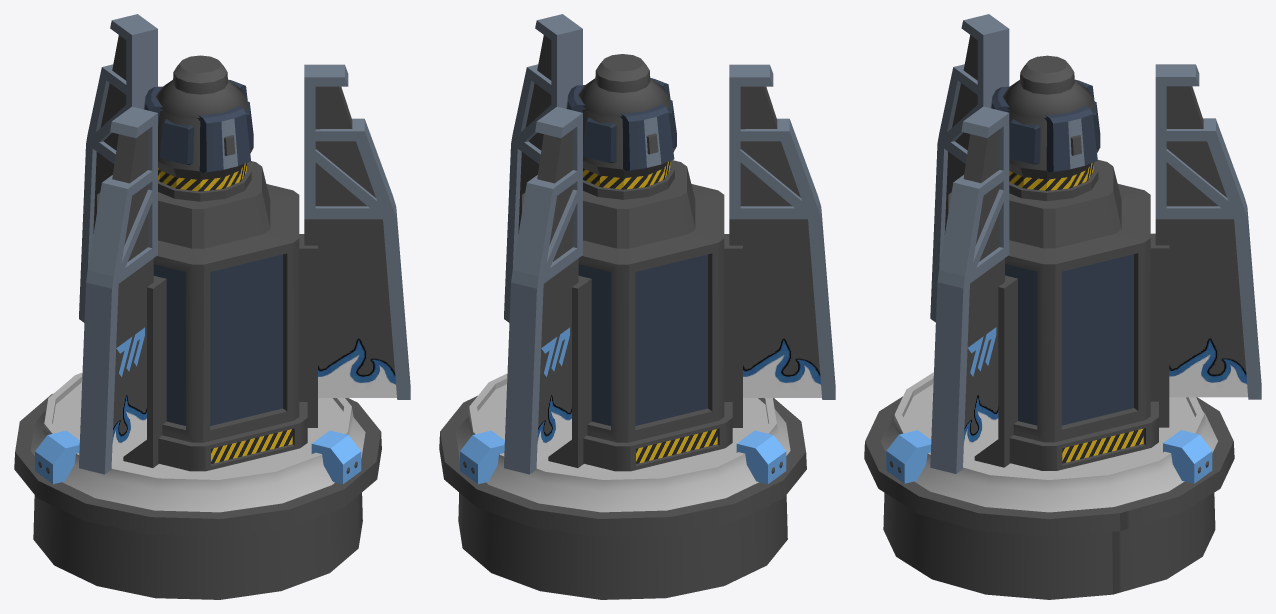
Rendered from Hellbomb.fbx.
The picture shows the model from 3 angles, left to right: view 1: azimuth 30°, elevation 25°; view 2: azimuth 150°, elevation 25°; view 3: azimuth 270°, elevation 25°; orthographic projection.
Visible parts, largest first — view 1: pPlane11; view 2: pPlane11; view 3: pPlane11.
Boxes of the visible parts, left/top/right/bottom form: pPlane11: left=14, top=14, right=410, bottom=599; pPlane11: left=439, top=14, right=835, bottom=599; pPlane11: left=864, top=14, right=1261, bottom=599.
Size of the model in its own units: 2.06 by 2.76 by 2.13.
